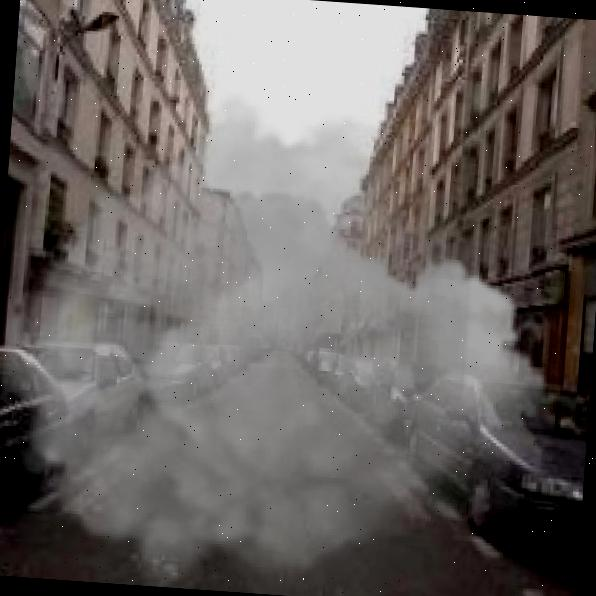smoke: (0, 77, 576, 596)
